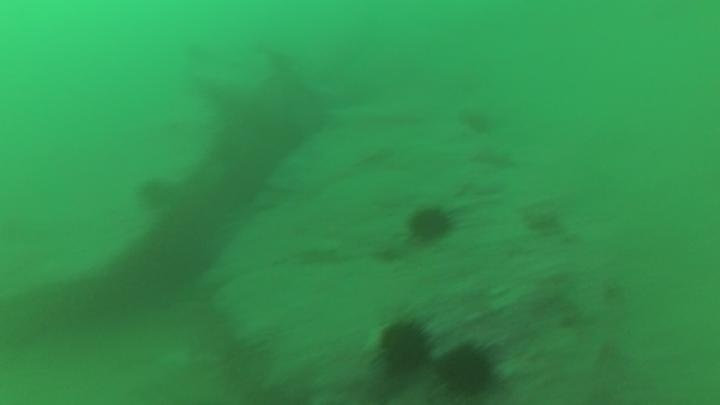echinus: (433, 339, 501, 401), (374, 315, 437, 378), (405, 203, 457, 246), (135, 175, 178, 212), (457, 105, 496, 138)
